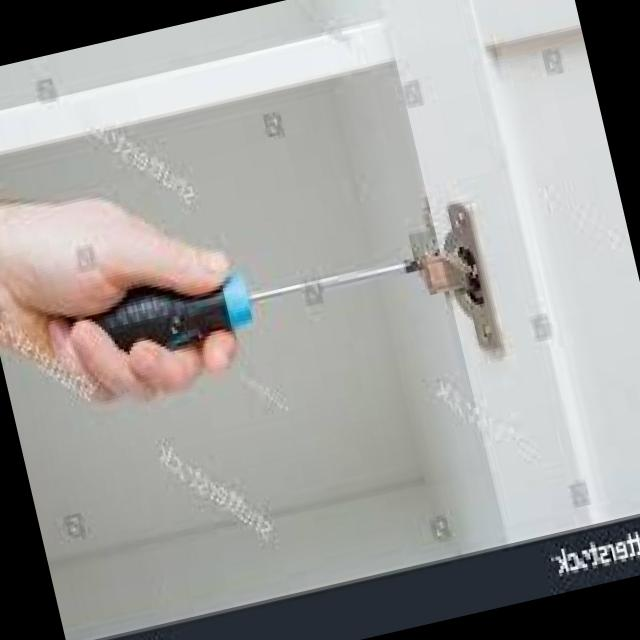screwdriver: (94, 275, 252, 350), (253, 264, 402, 299)
